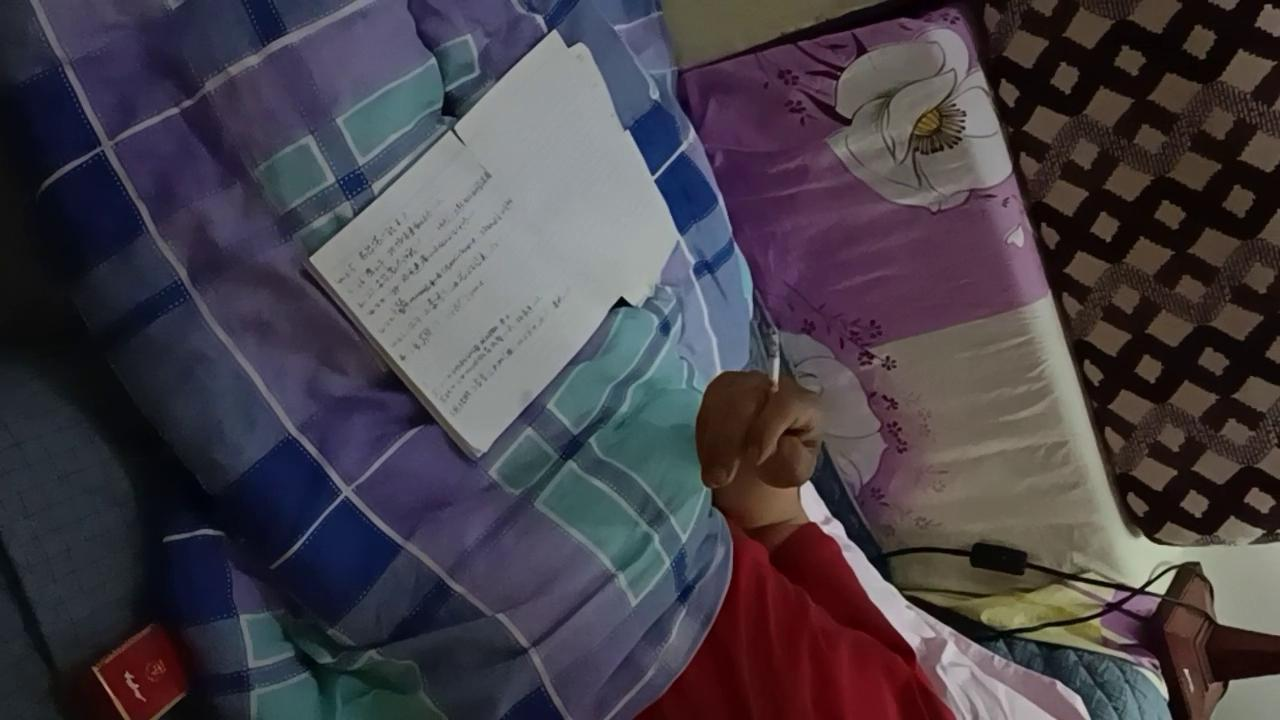smoke: (766, 325, 780, 412)
